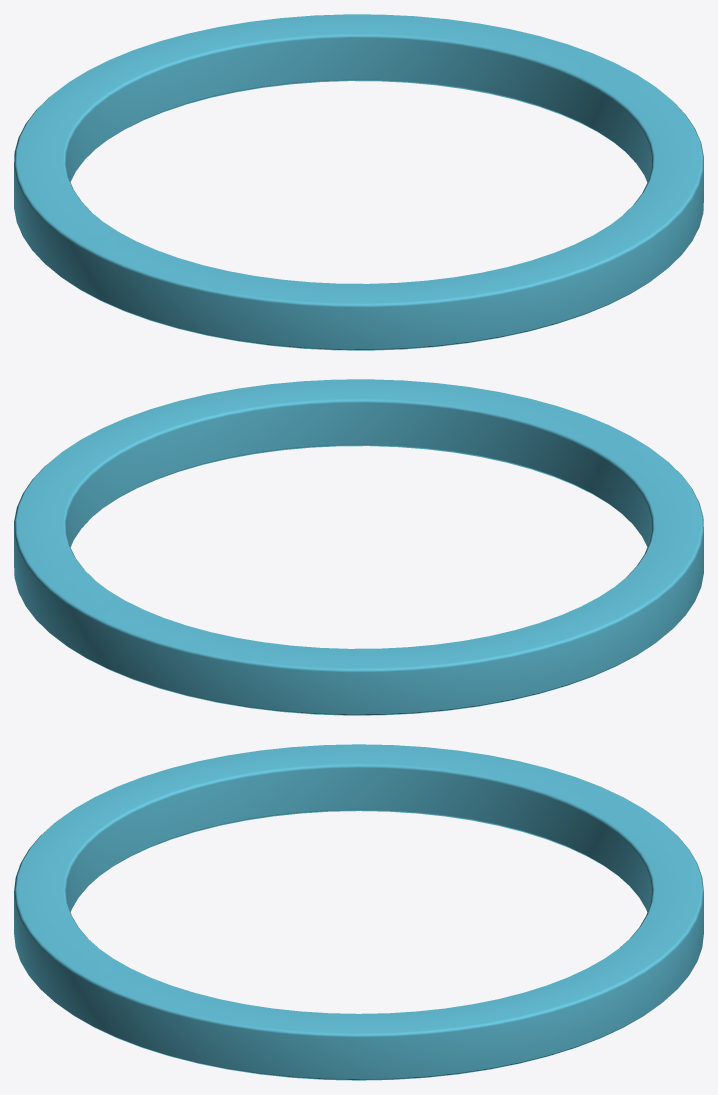
The picture shows the model from 3 angles, top to bottom: view 1: azimuth 30°, elevation 25°; view 2: azimuth 150°, elevation 25°; view 3: azimuth 270°, elevation 25°; orthographic projection.
Visible parts, largest first — view 1: seal_body; view 2: seal_body; view 3: seal_body.
Boxes of the visible parts, x1=… form: seal_body: x1=14, y1=14, x2=703, y2=350; seal_body: x1=14, y1=379, x2=703, y2=715; seal_body: x1=14, y1=744, x2=703, y2=1080.
Size of the model in its own units: 0.1048 by 0.00793 by 0.1048.
